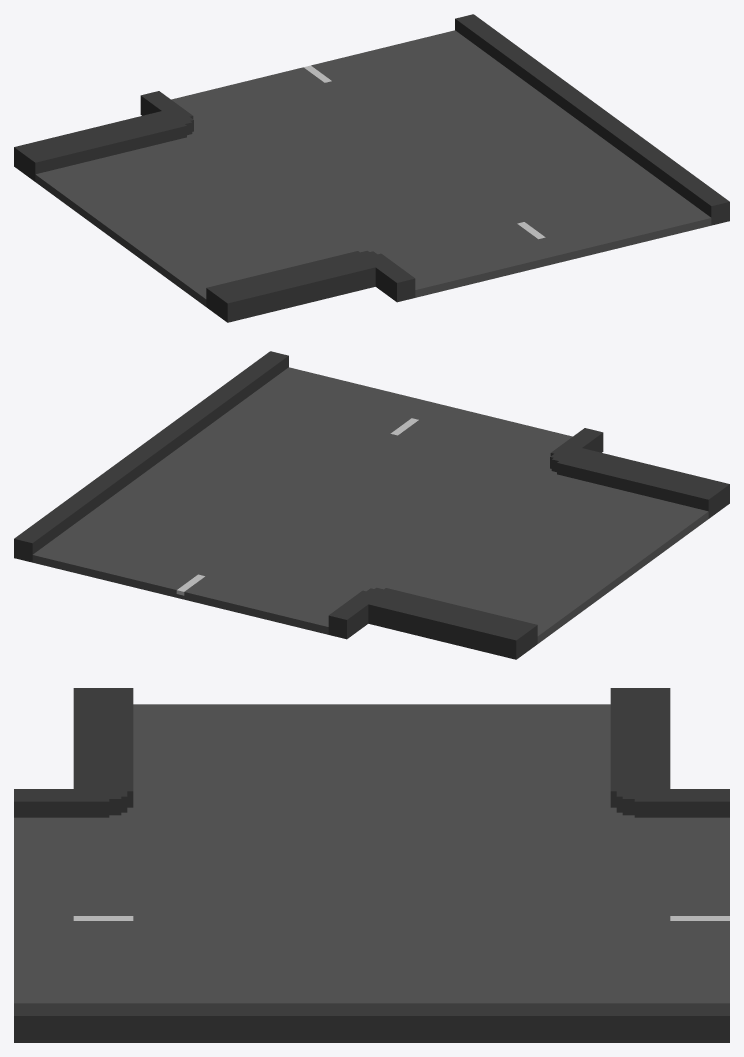
Rendered from TunnelRoad1.obj.
3 renders of one model, top to bottom at view 1: azimuth 30°, elevation 25°; view 2: azimuth 150°, elevation 25°; view 3: azimuth 270°, elevation 25°, orthographic. The views are drawn at different scales.
Size of the model in its own units: 13 by 0.5 by 12.
Materials: 1 (1 with a texture image).
